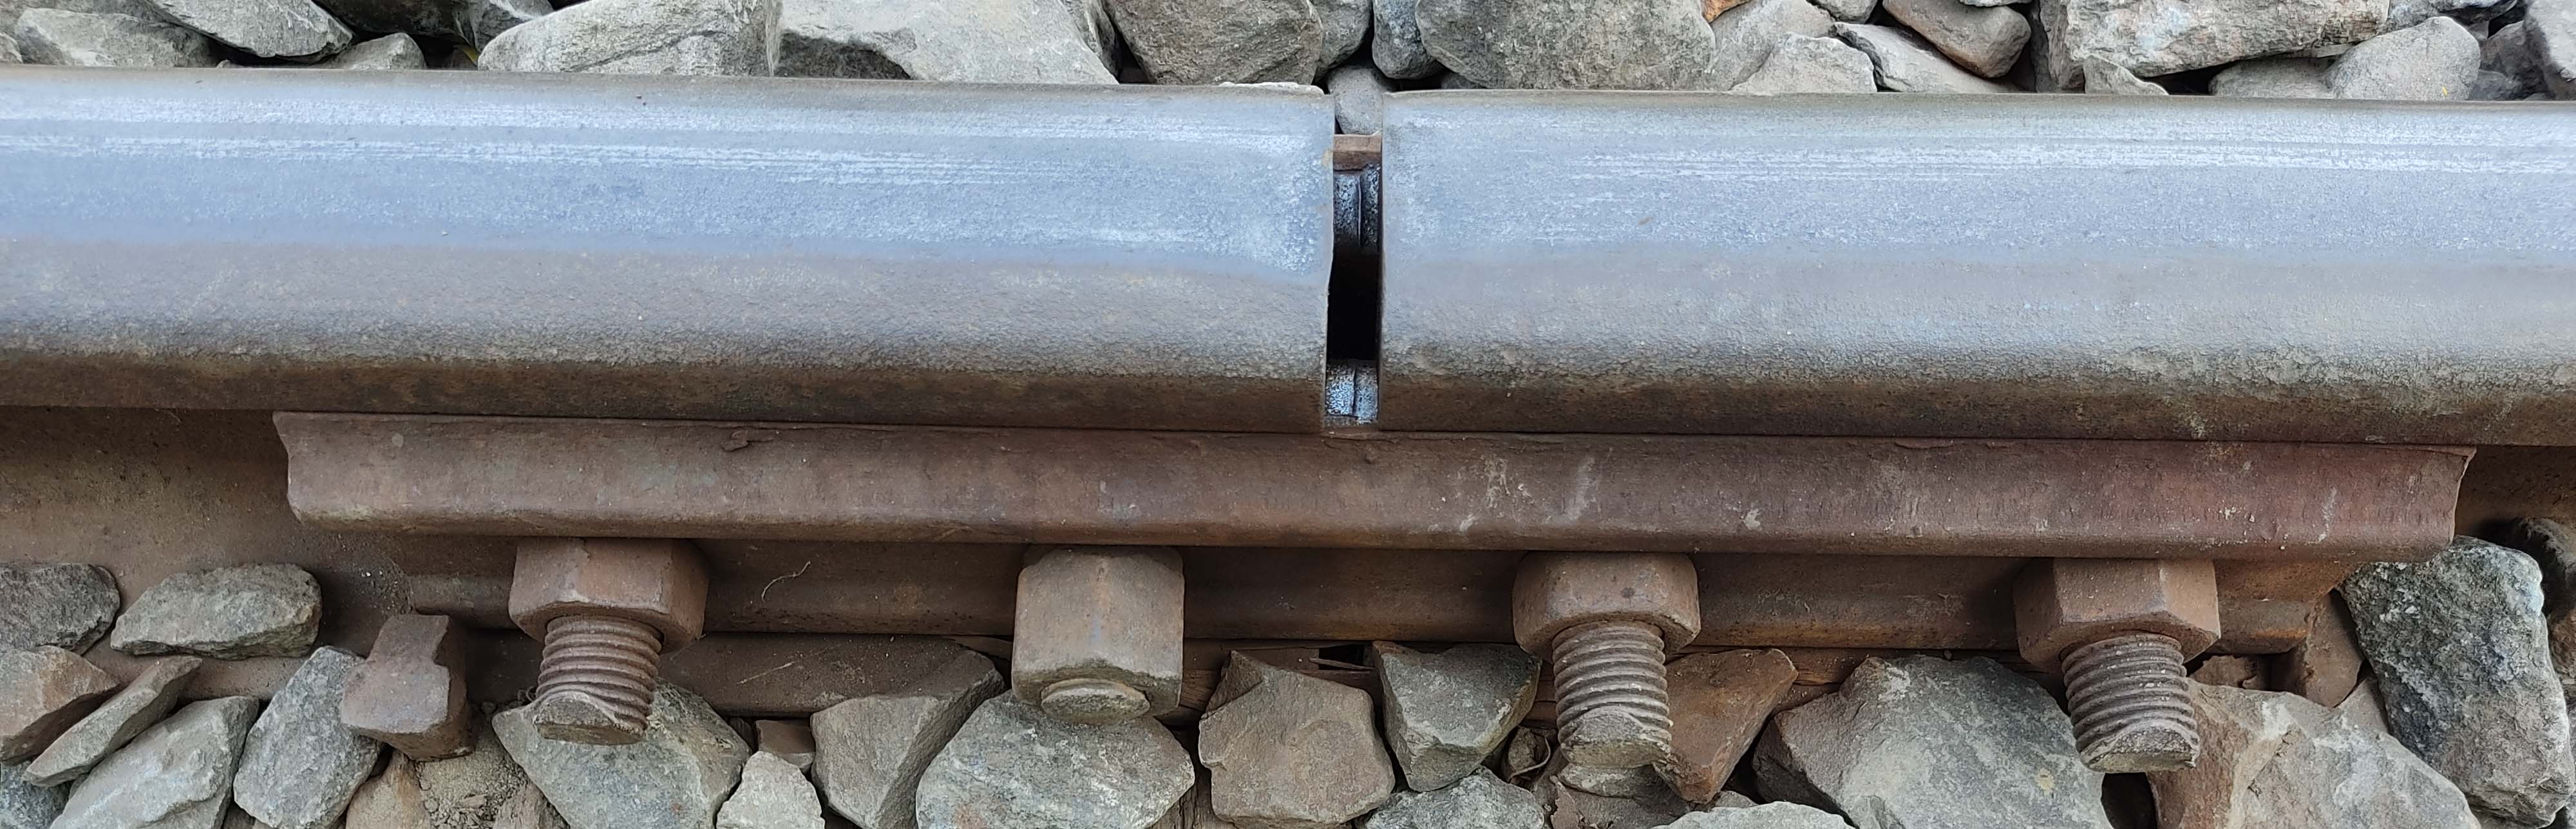error2: (1255, 59, 1457, 455)
